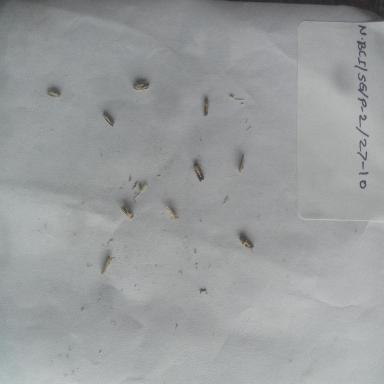pbw: (192, 155, 208, 185), (118, 198, 136, 224), (163, 199, 181, 223), (97, 253, 113, 277), (132, 74, 151, 94), (236, 152, 251, 176), (101, 108, 117, 130), (238, 234, 255, 253), (45, 80, 61, 100), (201, 94, 213, 118)
